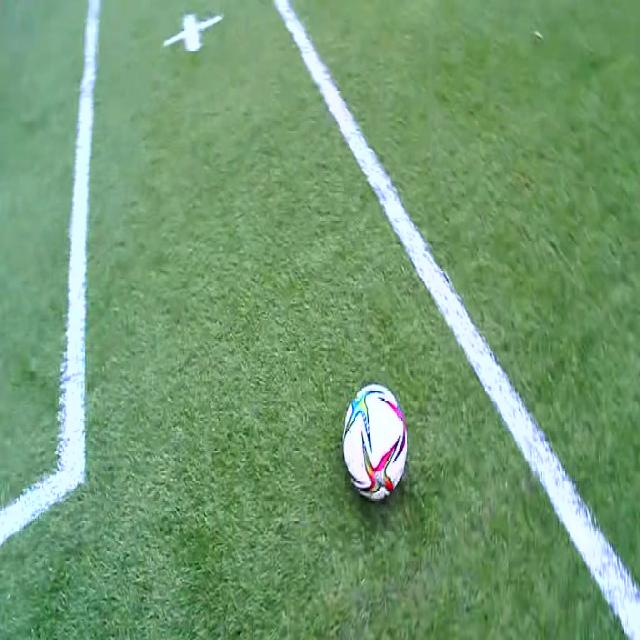ball: (345, 382, 407, 502)
